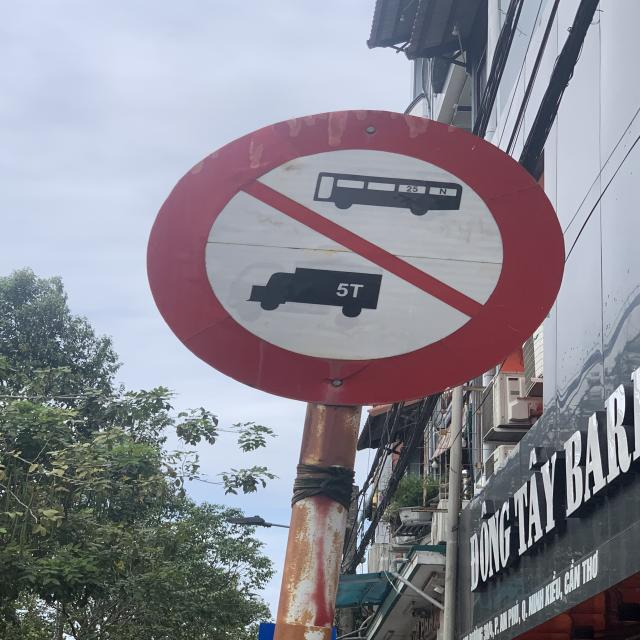Cam_XeTai_XeKhach: (145, 106, 565, 407)
